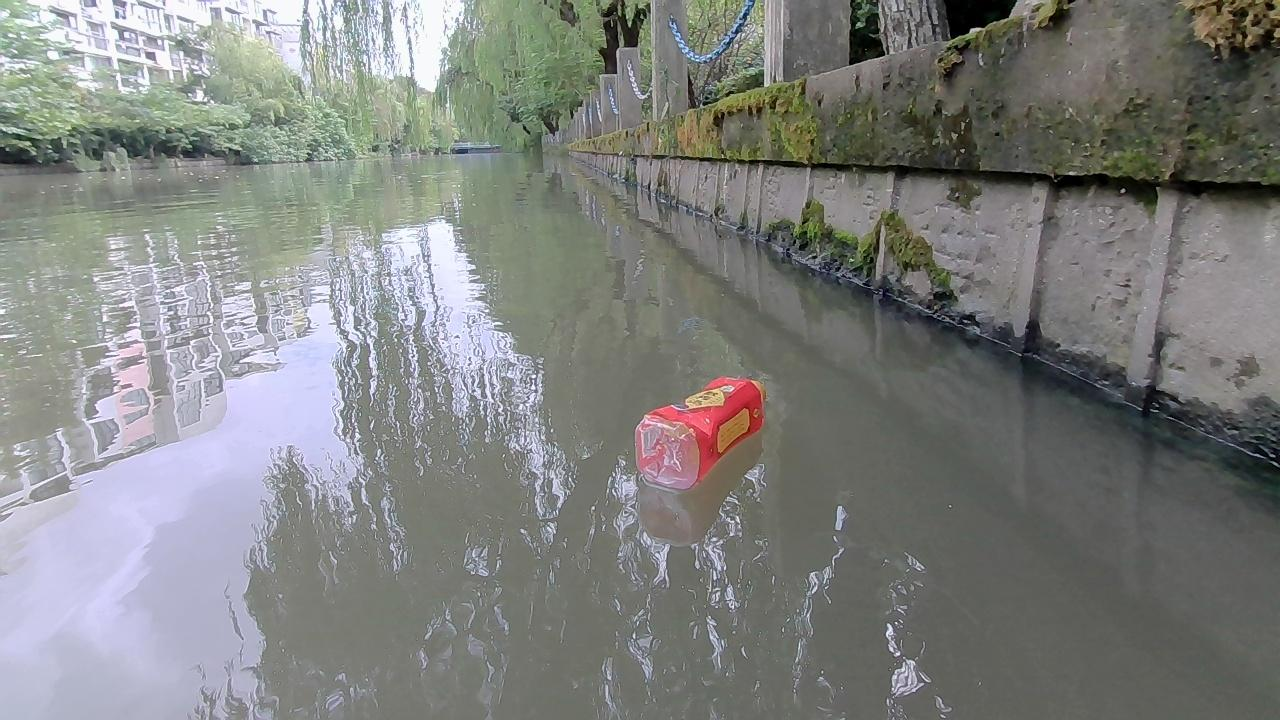bottle: (633, 375, 769, 490)
